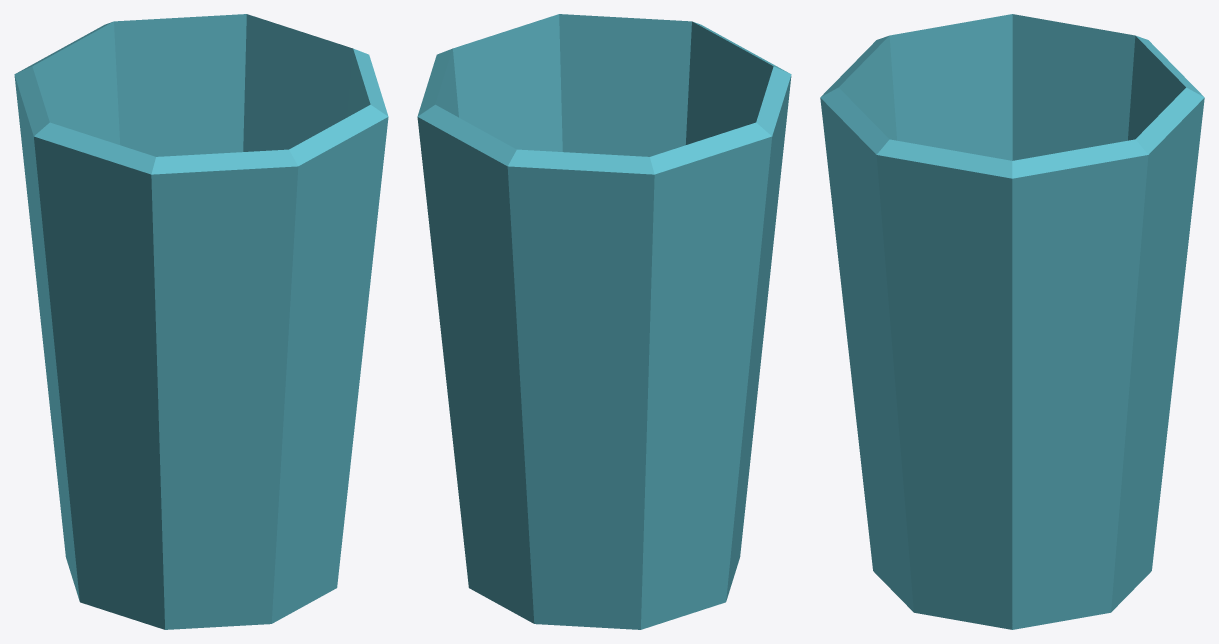
Rendered from GlassCup_Material.fbx.
The picture shows the model from 3 angles, left to right: view 1: azimuth 30°, elevation 25°; view 2: azimuth 150°, elevation 25°; view 3: azimuth 270°, elevation 25°; orthographic projection.
Visible parts, largest first — view 1: Glass Cup; view 2: Glass Cup; view 3: Glass Cup.
Boxes of the visible parts, <box> form: Glass Cup: <box>14,14,388,629</box>; Glass Cup: <box>417,14,791,629</box>; Glass Cup: <box>820,14,1204,629</box>.
Bounding box in the file's own units: 0.08 × 0.111 × 0.08.
